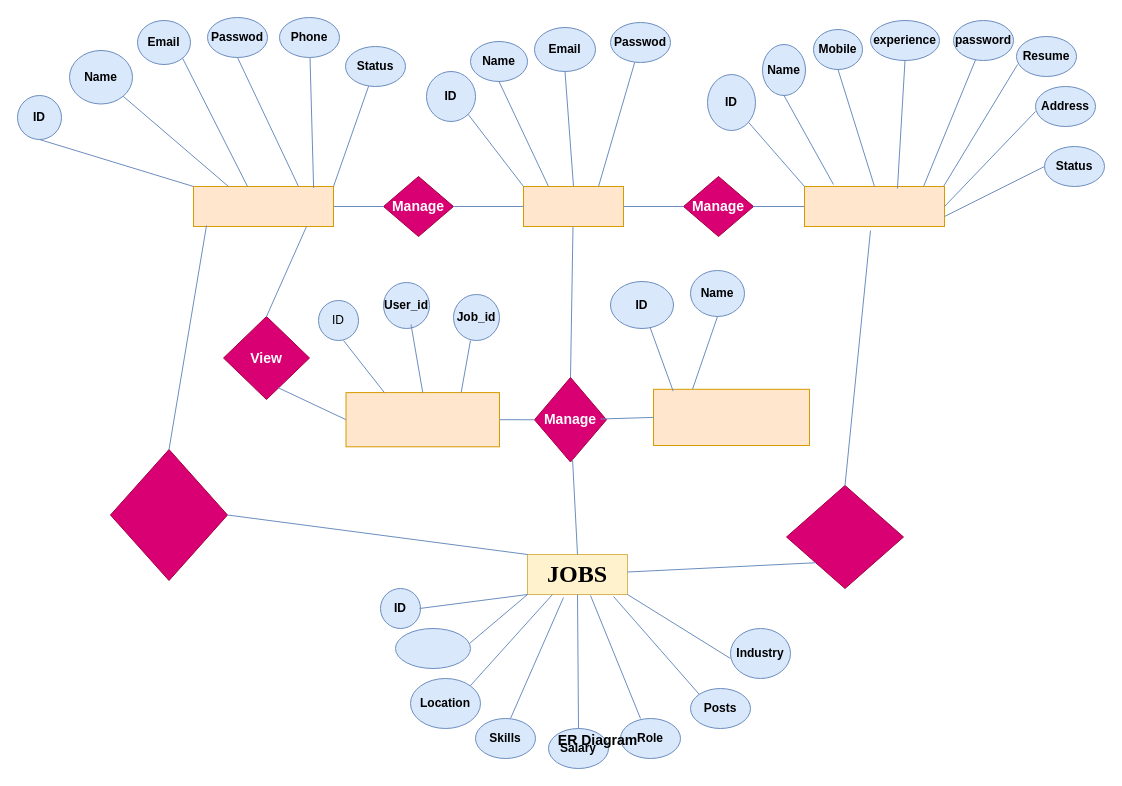
The diagram is 1122 pixels wide and 786 high, and some of its shapes have lost their labels. Each missing label, with the centre of its shape:
"ADMIN" goes at (x=573, y=206).
"APPLICATIONS" goes at (x=422, y=419).
"Apply" goes at (x=845, y=536).
"CATEGORY" goes at (x=731, y=417).
"COMPANY" goes at (x=263, y=206).
"Company_id" goes at (x=432, y=648).
"Post" goes at (x=169, y=514).
"STUDENT" goes at (x=874, y=206).
